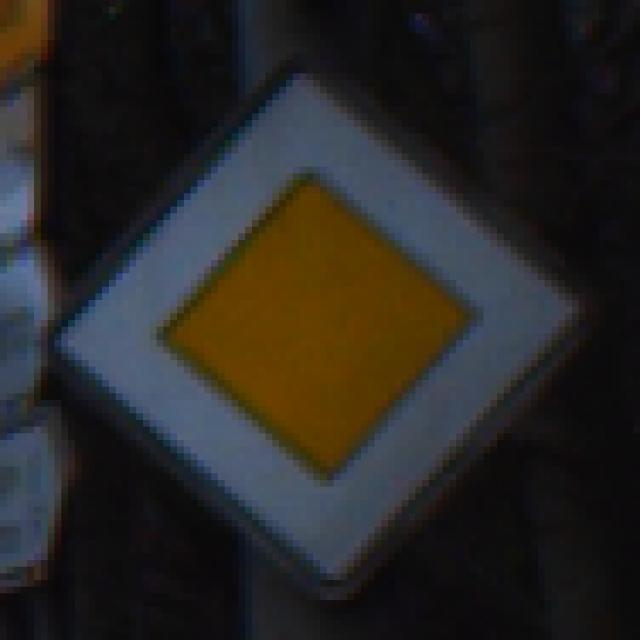Main Road: (56, 61, 587, 588)
